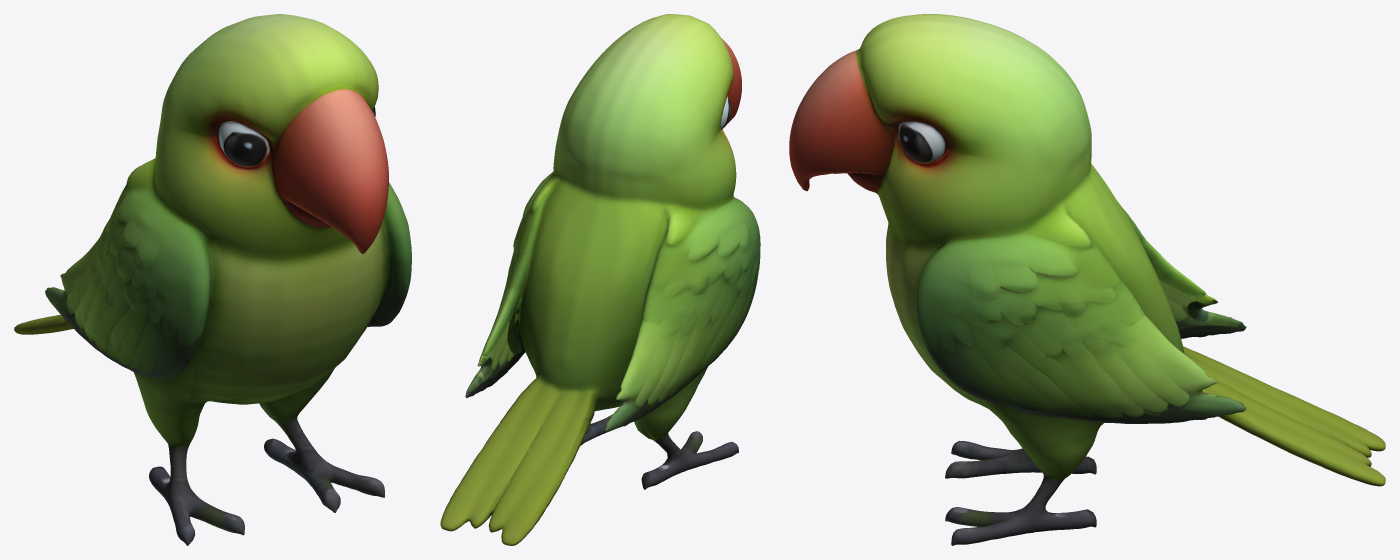
The model's file is Cotorro.glb.
3 views of the same model, side by side, from view 1: azimuth 30°, elevation 25°; view 2: azimuth 150°, elevation 25°; view 3: azimuth 270°, elevation 25° (orthographic). The views are drawn at different scales.
Parts seen in each view (by area): view 1: model; view 2: model; view 3: model.
Boxes of the visible parts, bbox=[...] form: model: bbox=[14, 14, 411, 545]; model: bbox=[440, 14, 760, 545]; model: bbox=[789, 14, 1385, 545].
Bounding box in the file's own units: 0.9079 × 1.68 × 1.9.
Materials: 1 (1 with a texture image).
